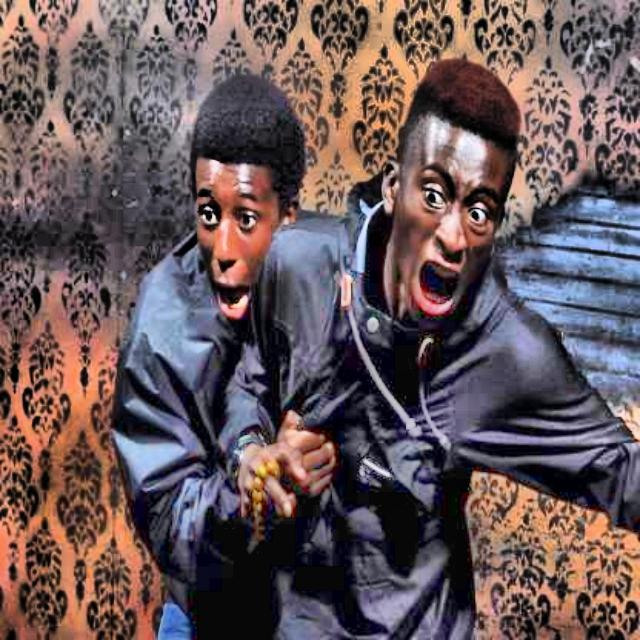fear: (385, 52, 506, 345), (184, 88, 300, 346)
